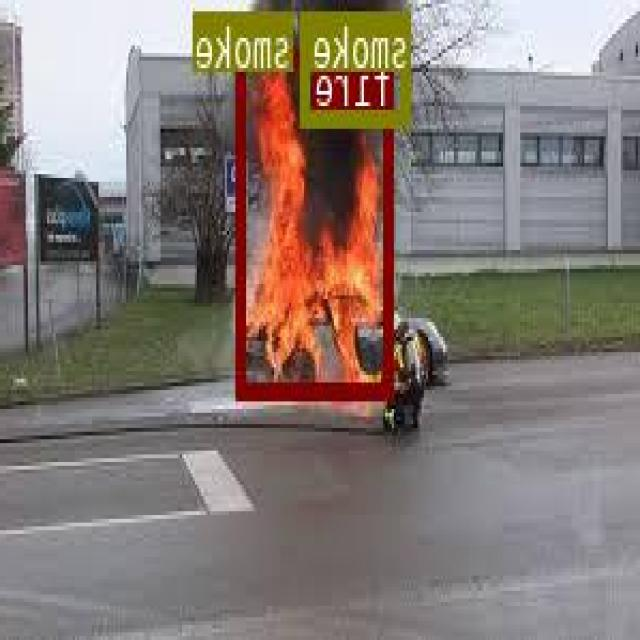fire: (239, 48, 396, 394)
smoke: (303, 9, 411, 124), (251, 10, 293, 62)
